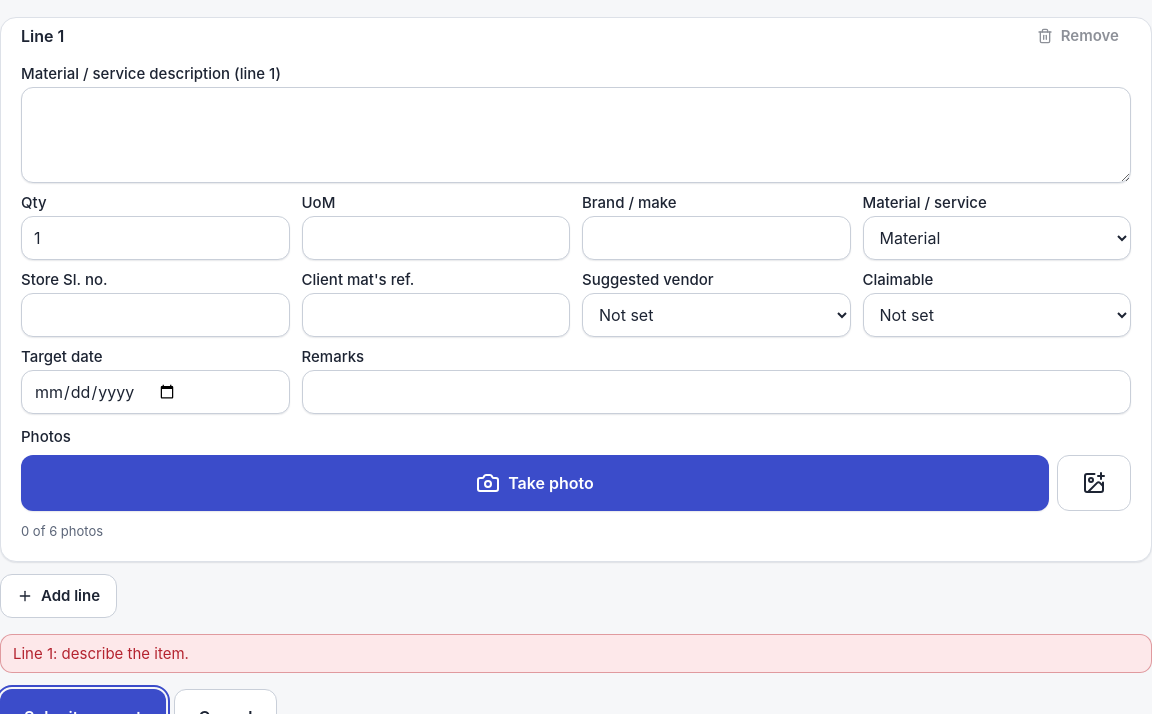
Test case: material request form › refuses a line without description or quantity and posts the request otherwise
The image size is (1152, 714).
Earlier steps of the test are not shown.
(page scrolled)
Check: the message reads "Line 1: describe the item.", box [13,644,189,662]
Step 1. Type "Ball valve" into the text box labelled "Material / service description (line 1)" → [576, 135], box [21,87,1131,183]
Step 2. Replace the text in the number field labelled "Qty" with "0" → [155, 238], box [21,216,290,260]
(page scrolled)
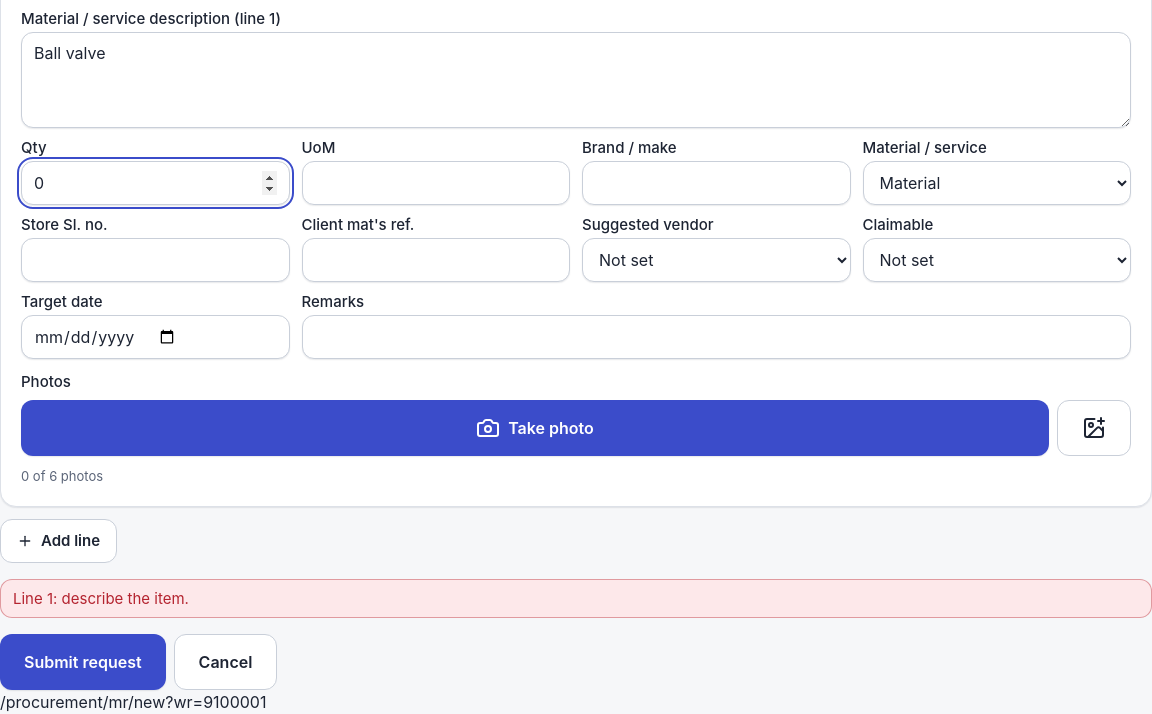
Step 3. Click the button "Submit request" → [83, 662], box [0,634,166,690]
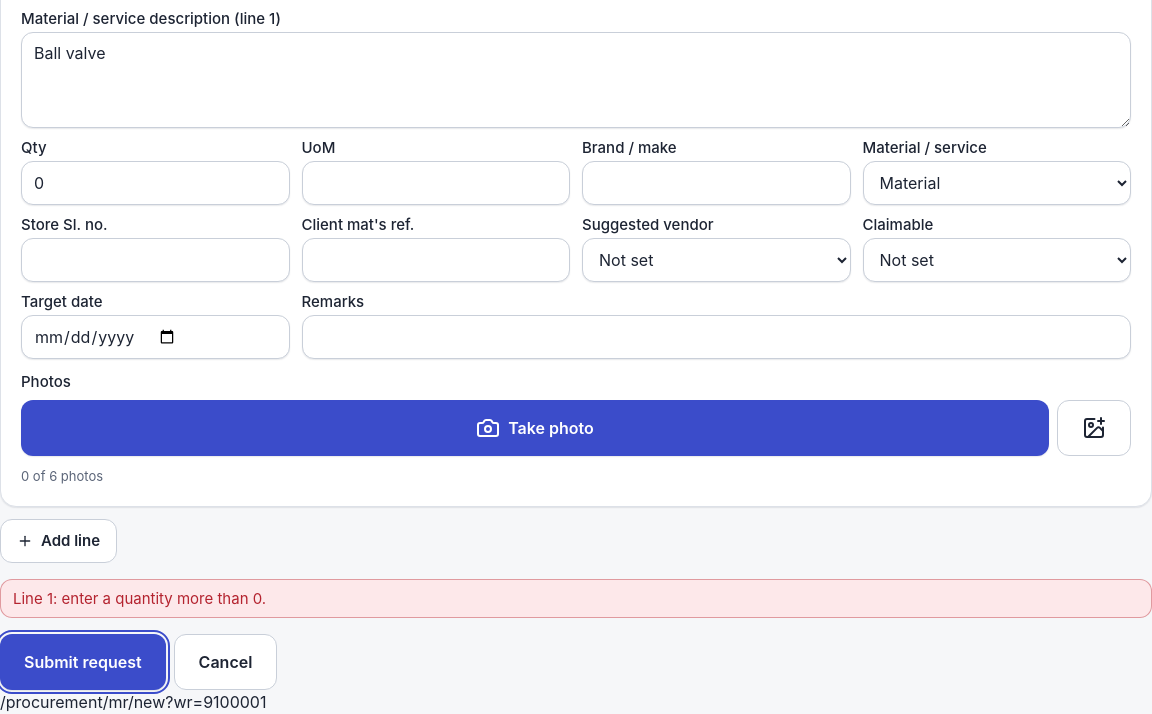
Check: the message shows "enter a quantity more than 0", box [13,588,266,608]
Step 4. Replace the text in the number field labelled "Qty" with "4" → [155, 183], box [21,161,290,205]
(page scrolled)
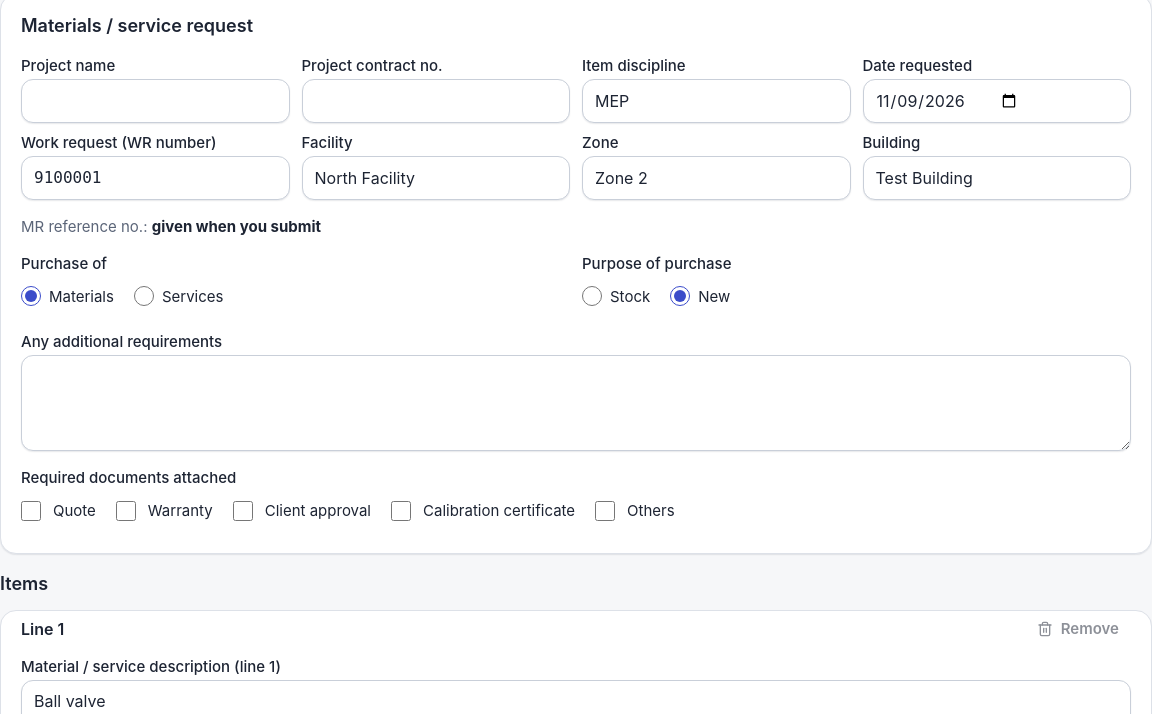
Step 5. Click the radio button labelled "Services" → [144, 296], box [134,286,154,306]
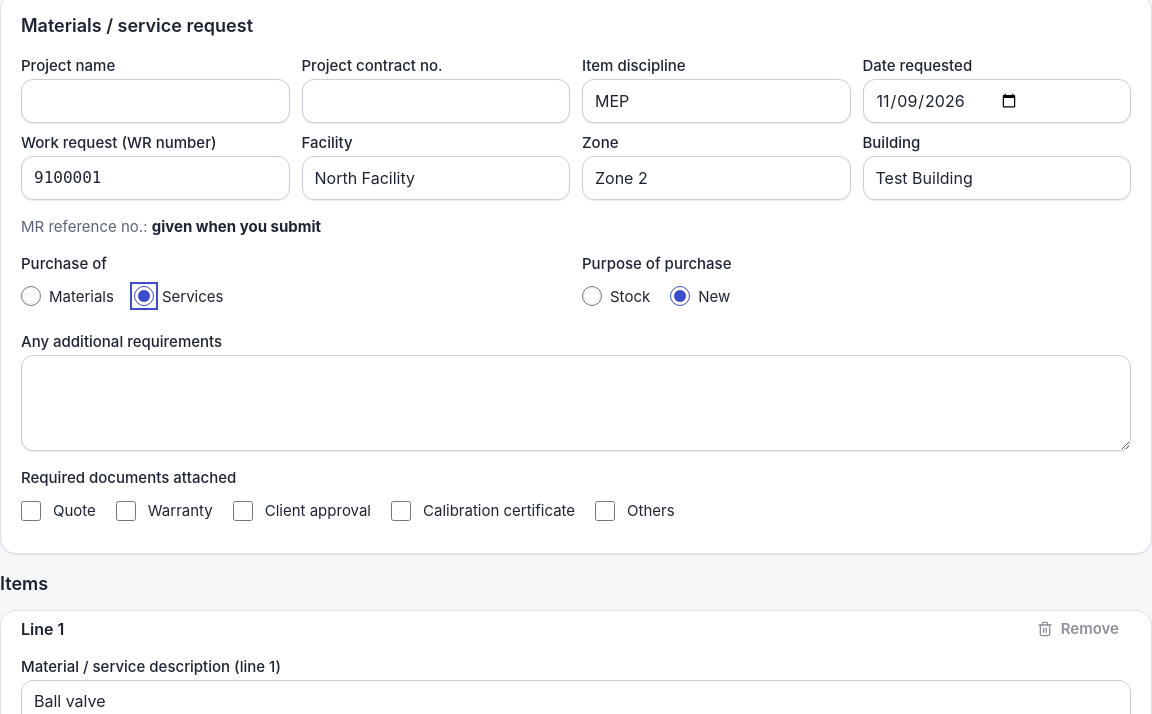
Step 6. Click the checkbox labelled "Quote" → [31, 511], box [21,501,41,521]
(page scrolled)
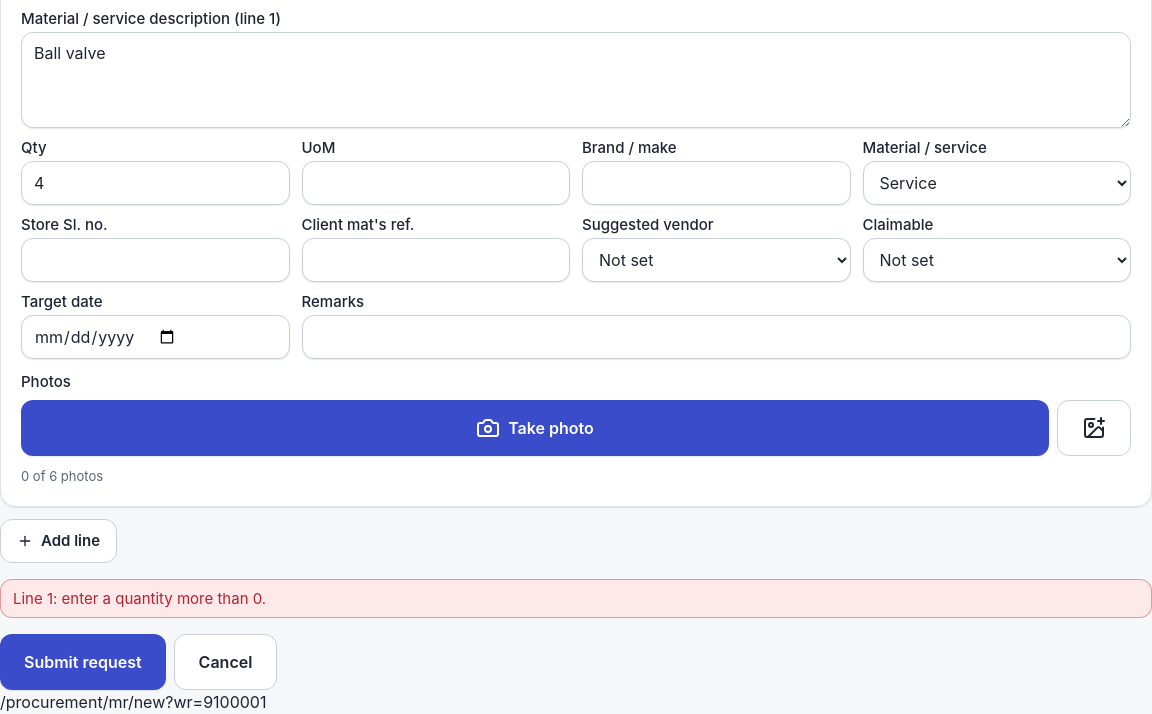
Step 7. Click the button "Submit request" → [83, 662], box [0,634,166,690]
(page scrolled)
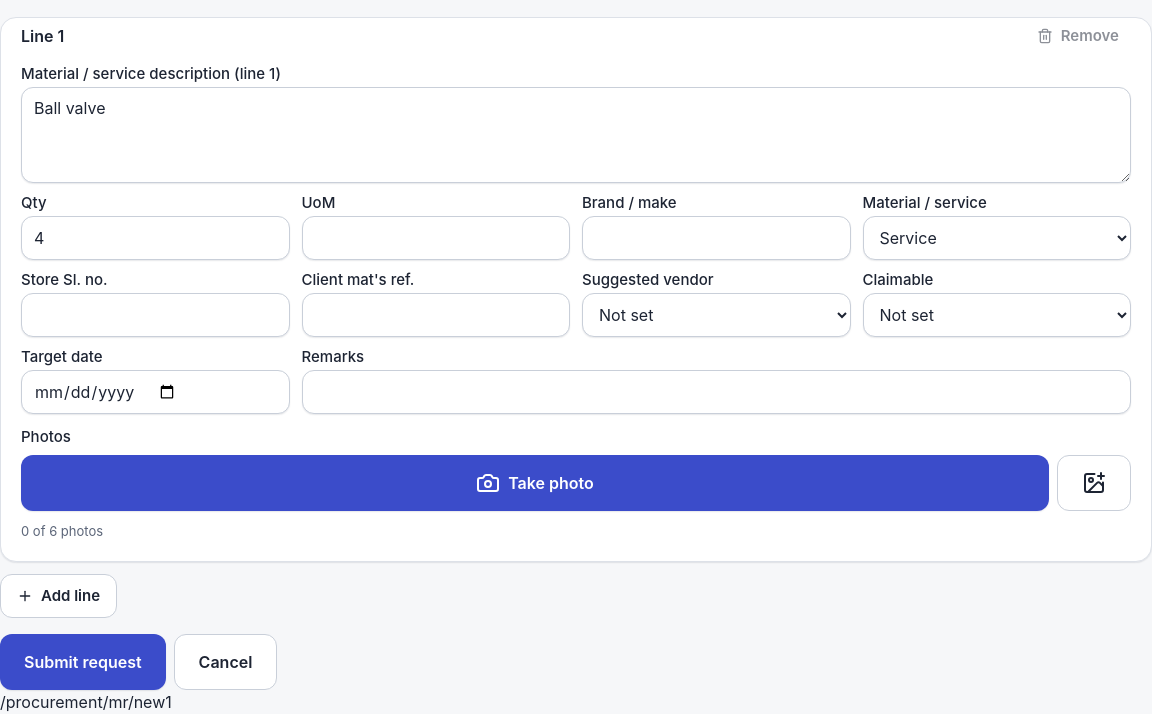
Check: the text with test id "where" reads "/procurement/mr/new1", box [0,692,172,712]
